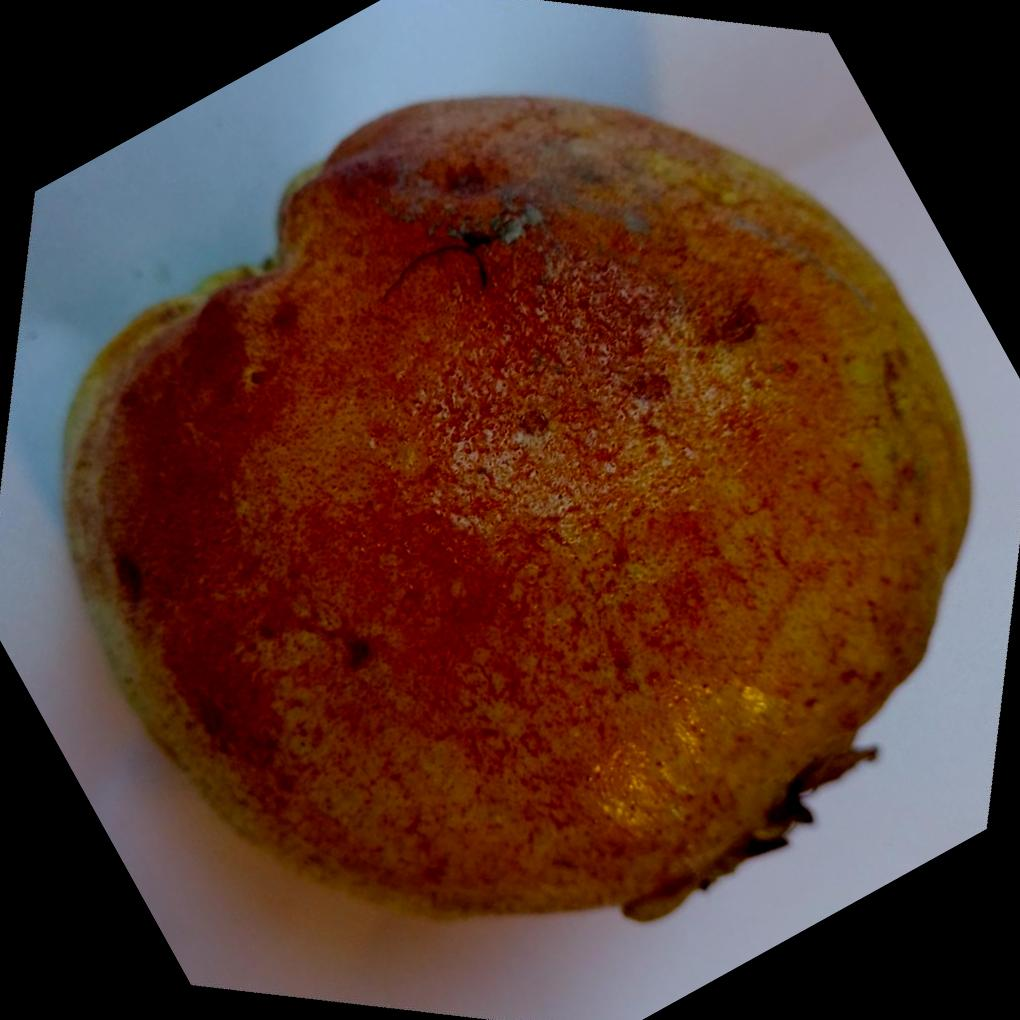FreshOrange: (59, 87, 973, 922)
